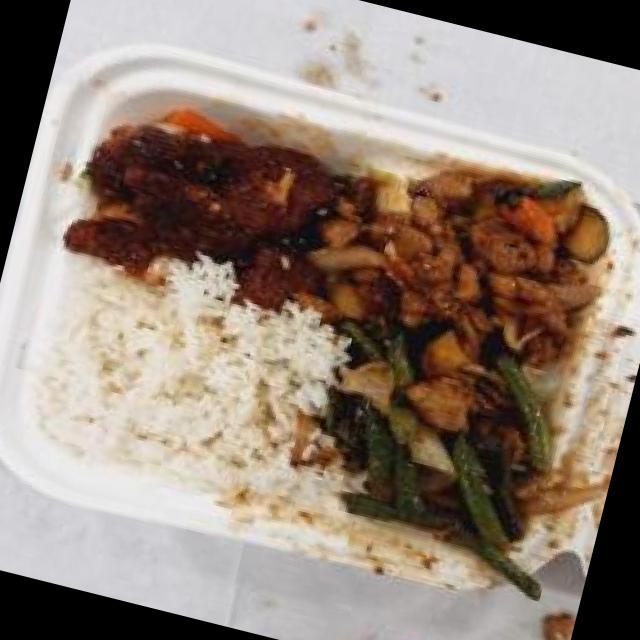Beijing Beef: (58, 78, 354, 318)
Kung Pao Chicken: (302, 127, 639, 400)
String Bean Chicken Breast: (303, 322, 591, 572)
White Steamed Rice: (21, 255, 340, 521)
